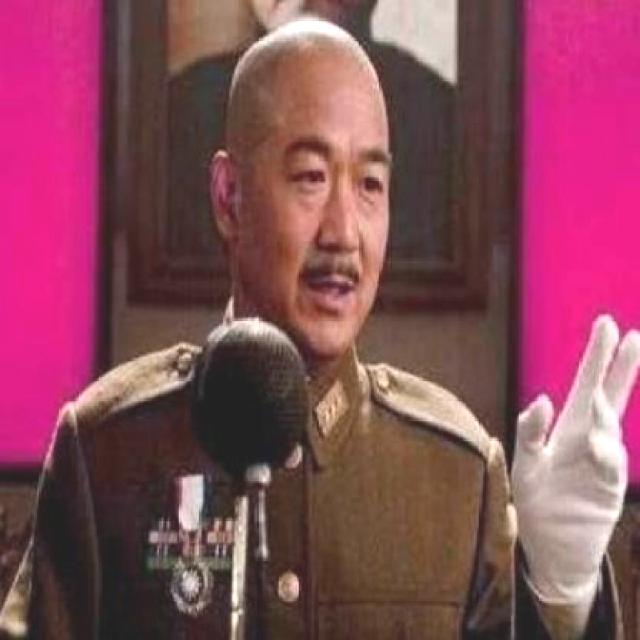face_nomask: (232, 92, 410, 323)
hand_glove: (508, 301, 640, 586)
head_nohelmet: (223, 9, 409, 123)
person: (84, 21, 568, 640)
